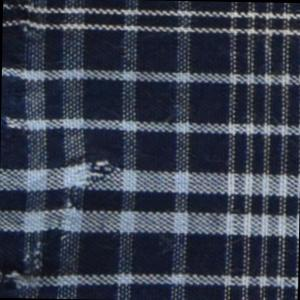Damage: (1, 75, 126, 300), (3, 1, 54, 43)
